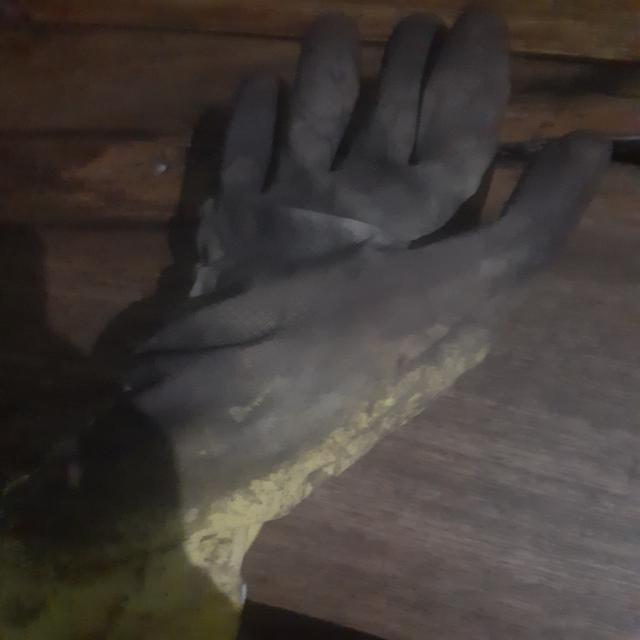glove_hand: (8, 0, 616, 640)
